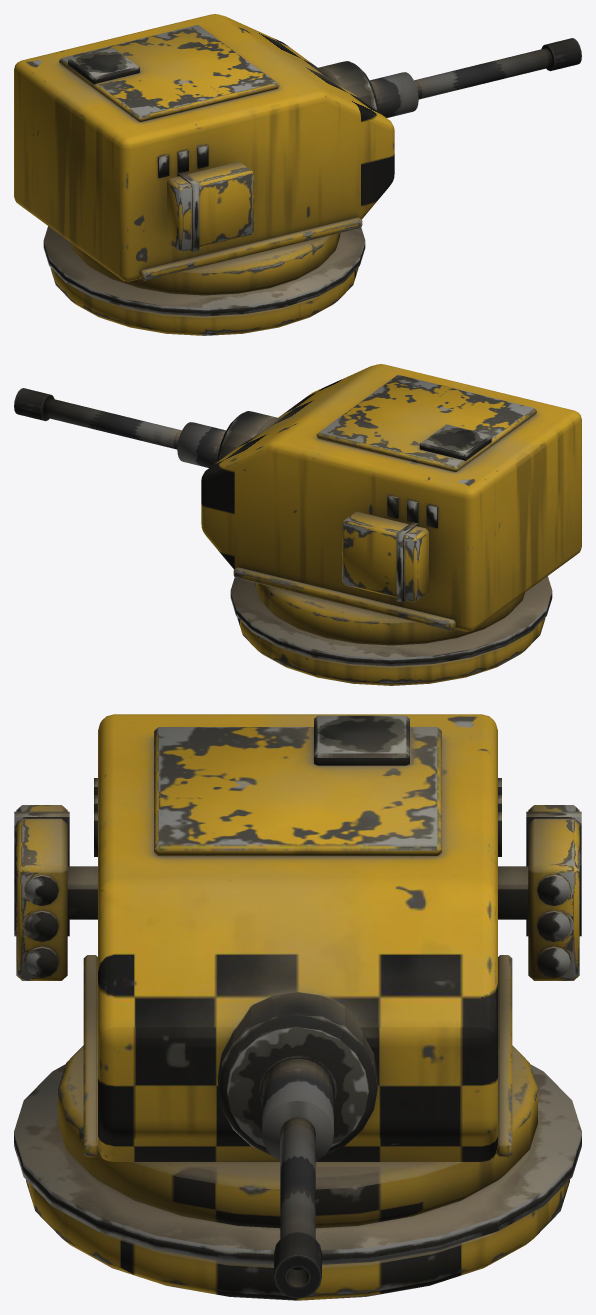
The model's file is turret_grach_t1_chequer.glb.
The picture shows the model from 3 angles, top to bottom: view 1: azimuth 30°, elevation 25°; view 2: azimuth 150°, elevation 25°; view 3: azimuth 270°, elevation 25°; orthographic projection. The views are drawn at different scales.
Visible parts, largest first — view 1: turret_light_t1, guns, pods; view 2: turret_light_t1, guns, pods; view 3: turret_light_t1, guns, pods.
Boxes of the visible parts, left/top/right/bottom form: turret_light_t1: left=14, top=14, right=394, bottom=335; guns: left=316, top=38, right=581, bottom=117; pods: left=167, top=161, right=254, bottom=252; turret_light_t1: left=201, top=364, right=581, bottom=685; guns: left=14, top=388, right=279, bottom=467; pods: left=341, top=511, right=428, bottom=602; turret_light_t1: left=14, top=714, right=581, bottom=1300; guns: left=218, top=992, right=377, bottom=1298; pods: left=14, top=805, right=581, bottom=980.
Bounding box in the file's own units: 1.14 × 0.4664 × 0.6248.
Materials: 3 (3 with a texture image).
